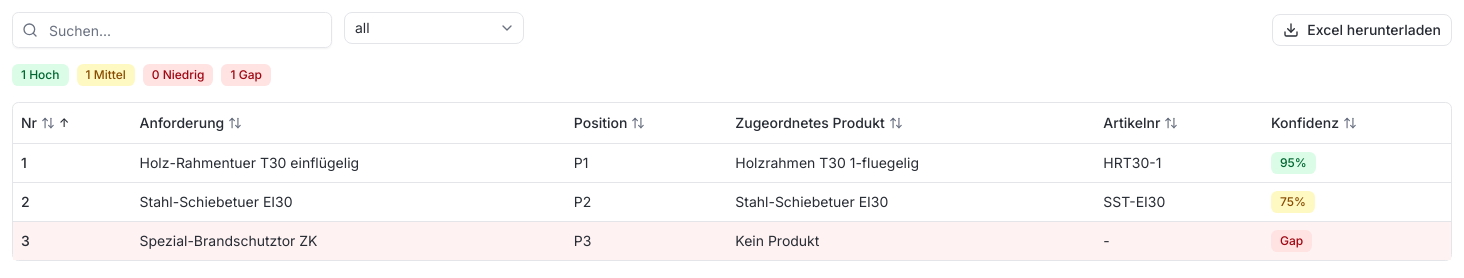
[ANLZ-05, RSLT-01, RSLT-04] Results table step › filters by confidence level dropdown
Click on the confidence filter trigger
Click the dropdown with test id "confidence-filter". click: [434, 28]
box: [344,12,524,44]
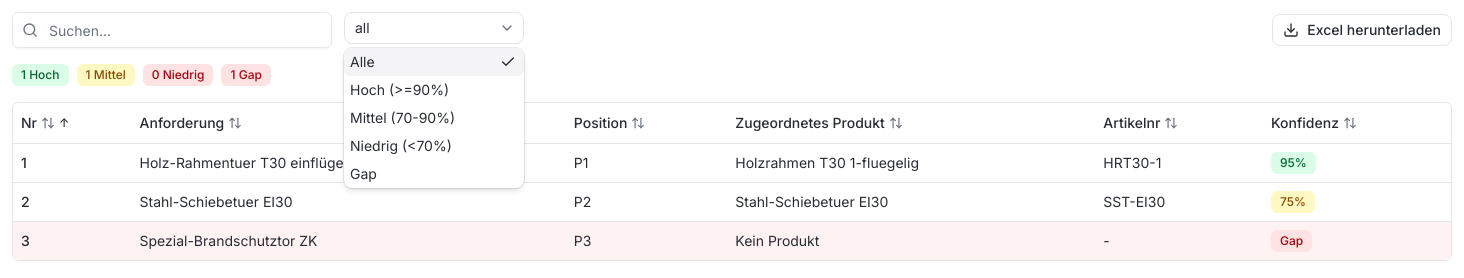
Expected: the text "Gap" is shown
Click the option "Gap". click: [363, 174]
box: [350,165,377,182]
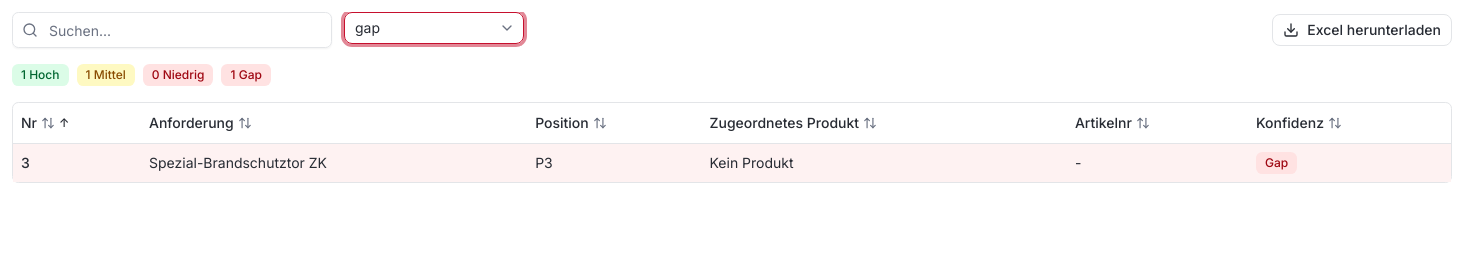
Expected: the row with test id "result-row-3" is shown, [13,143,1451,182]
Expected: the row with test id "result-row-1" is gone
Expected: the row with test id "result-row-2" is gone
